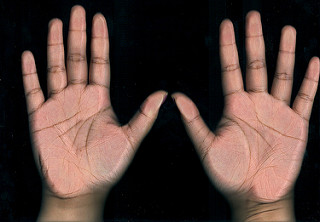palm: (28, 92, 135, 183), (215, 98, 298, 201)
